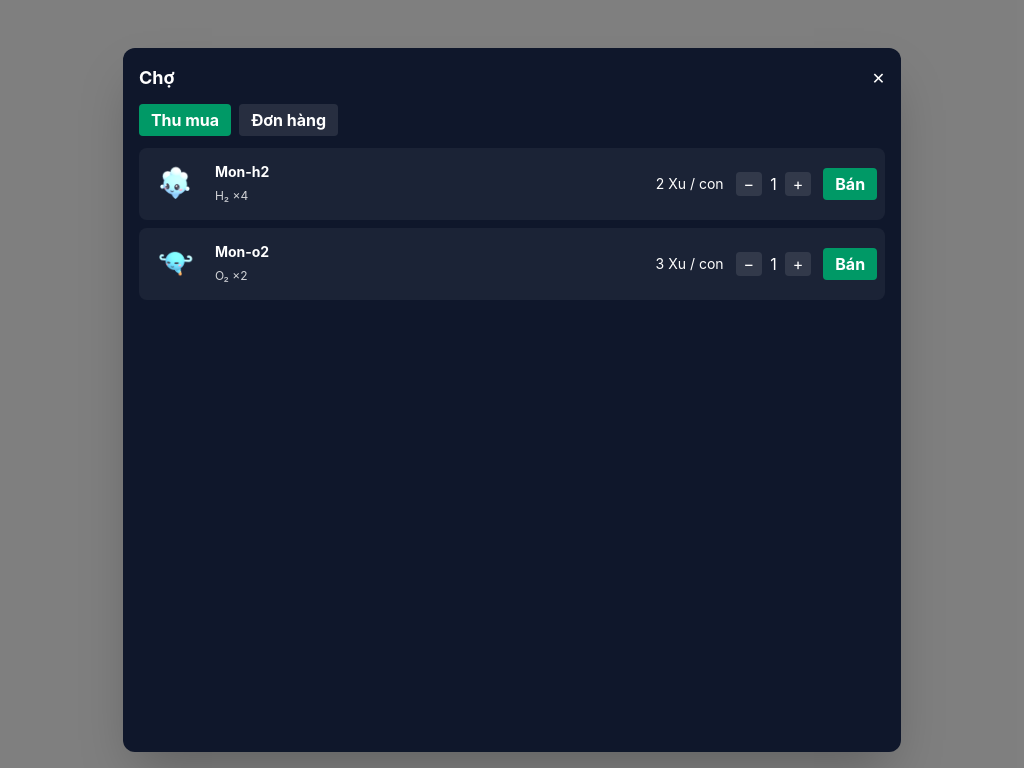
Bán posts {chemicalId, count} once on double click and shows the status line
Click the button named "Tăng h2" at (798,184), box [785, 172, 811, 196]
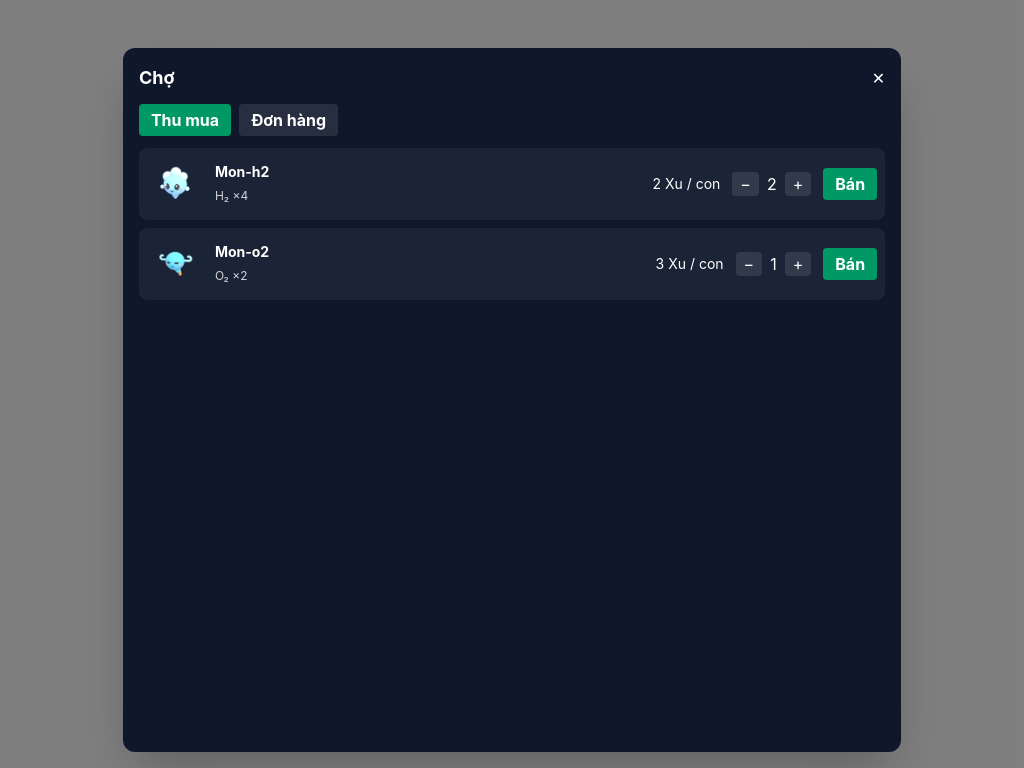
Click the button named "Tăng h2" at (798,184), box [785, 172, 811, 196]
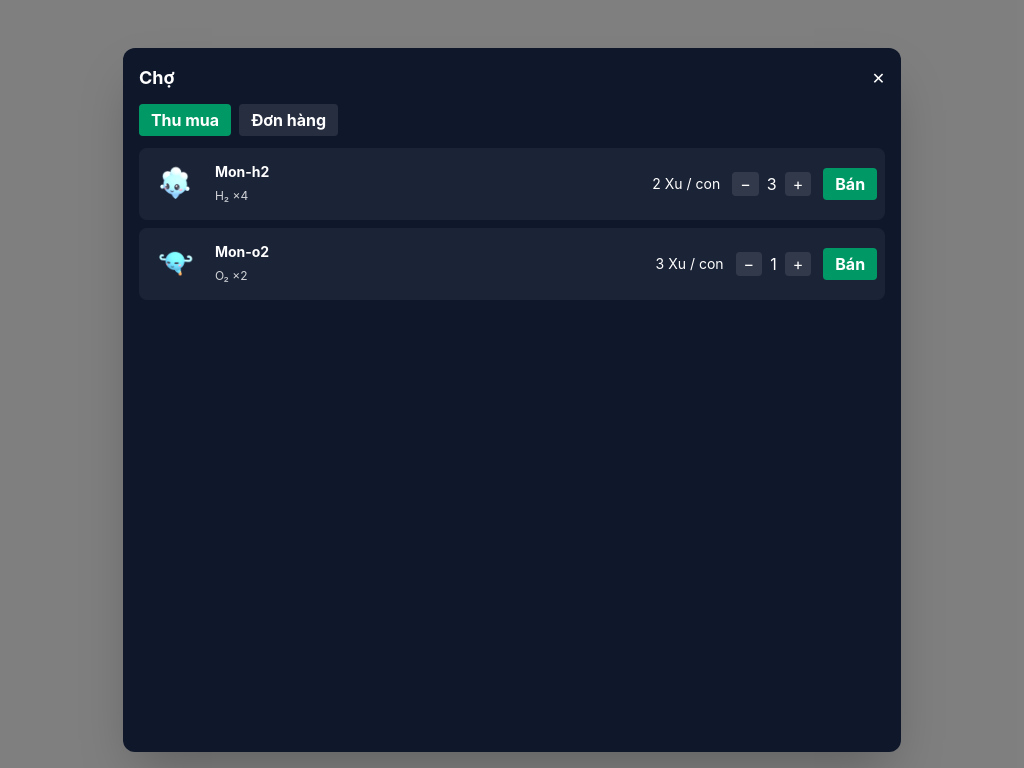
Click the button with test id "sell-h2" at (850,184), box [823, 168, 877, 200]
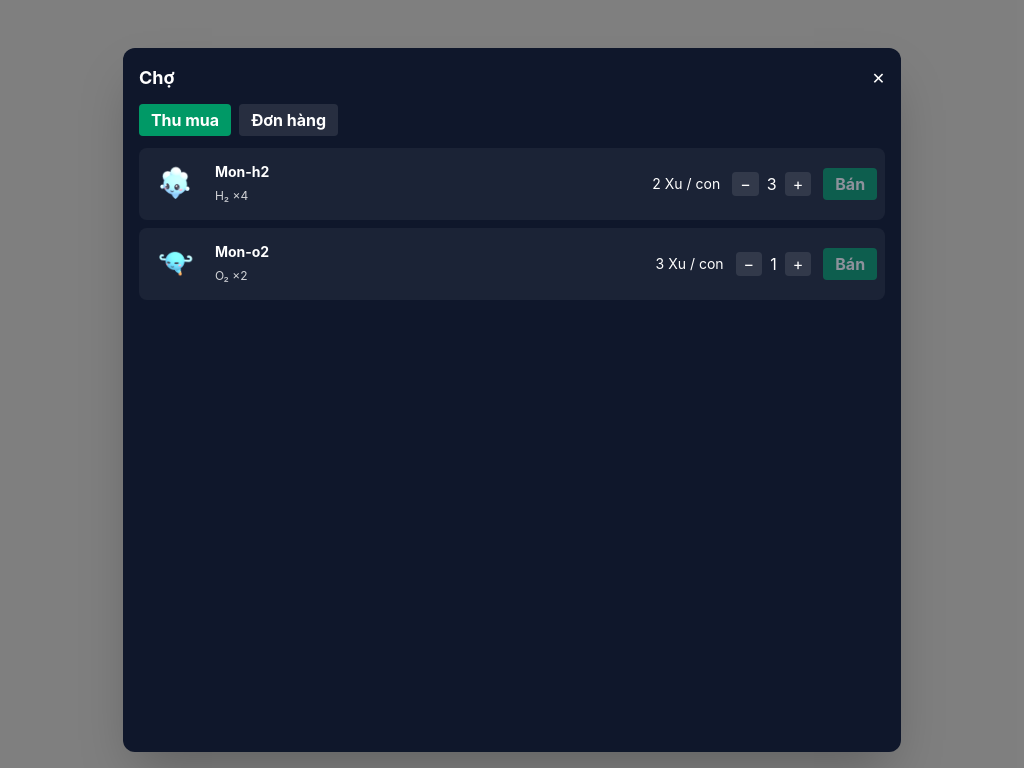
Click the button with test id "sell-h2" at (850,184), box [823, 168, 877, 200]
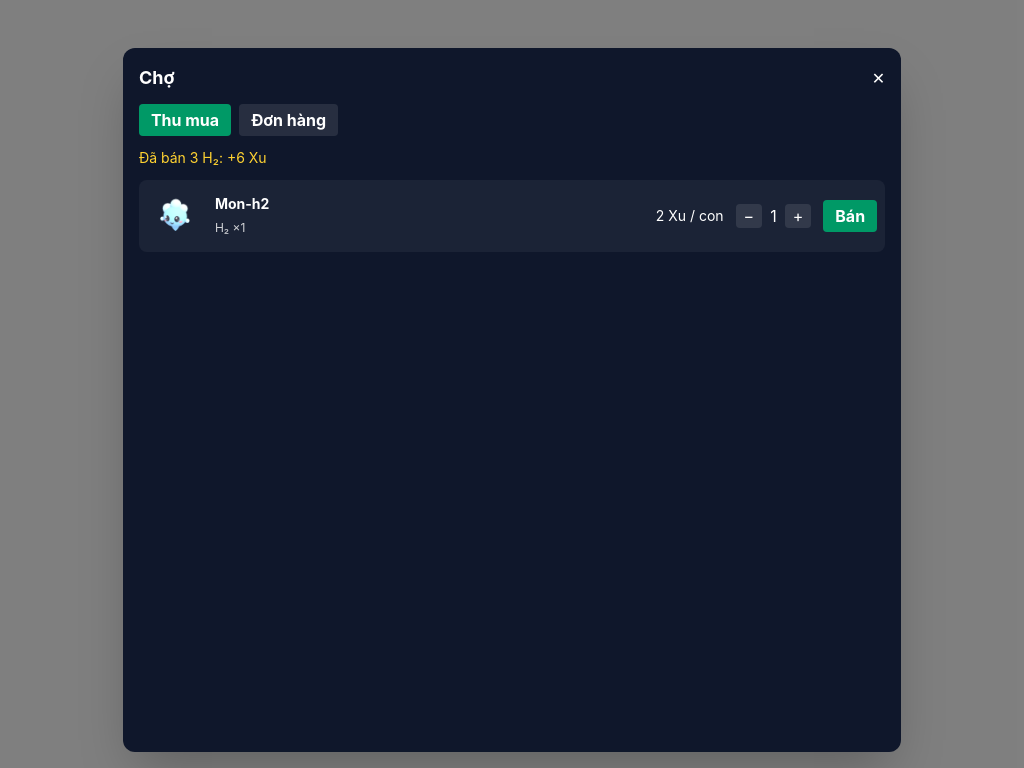
expect the message reads "Đã bán 3 H₂: +6 Xu": met, box [139, 149, 267, 166]
